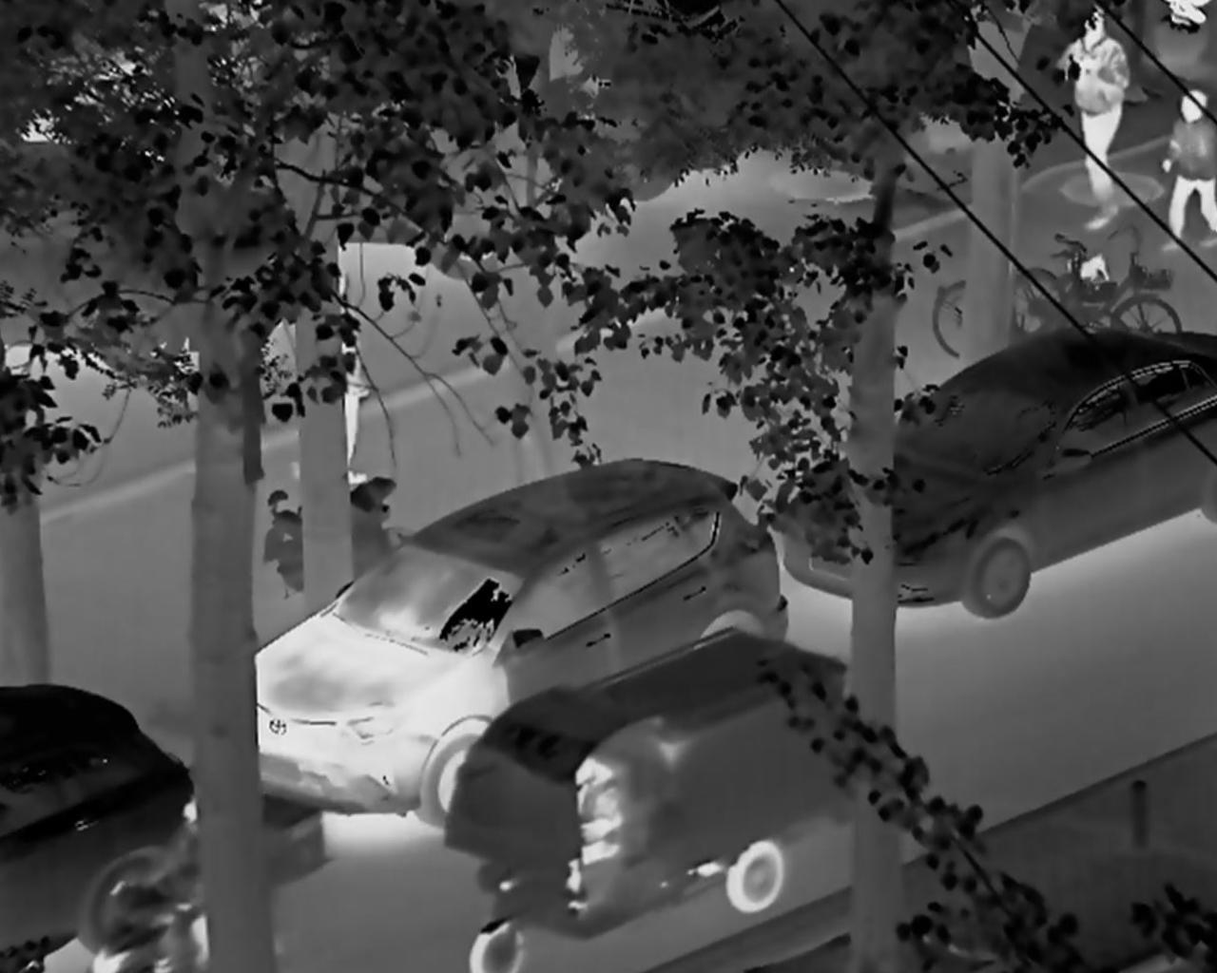person: (1060, 4, 1134, 233), (1151, 86, 1217, 246), (570, 756, 624, 899)
